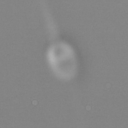normal: (36, 2, 61, 38)
